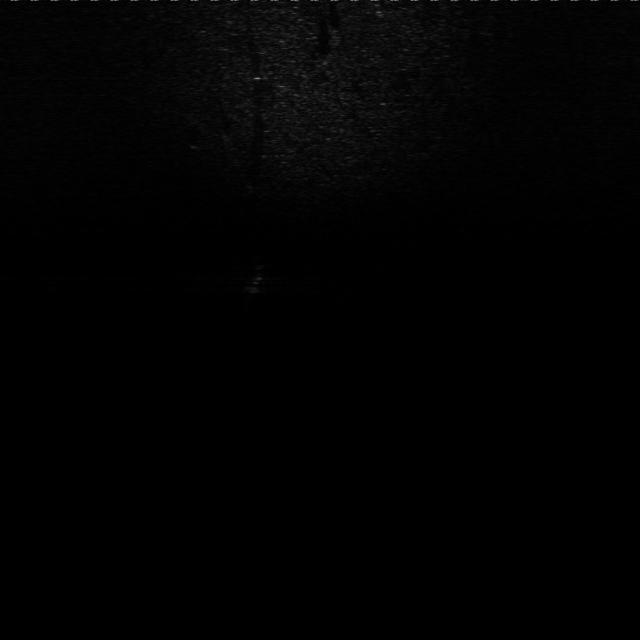human body: (236, 246, 273, 298)
